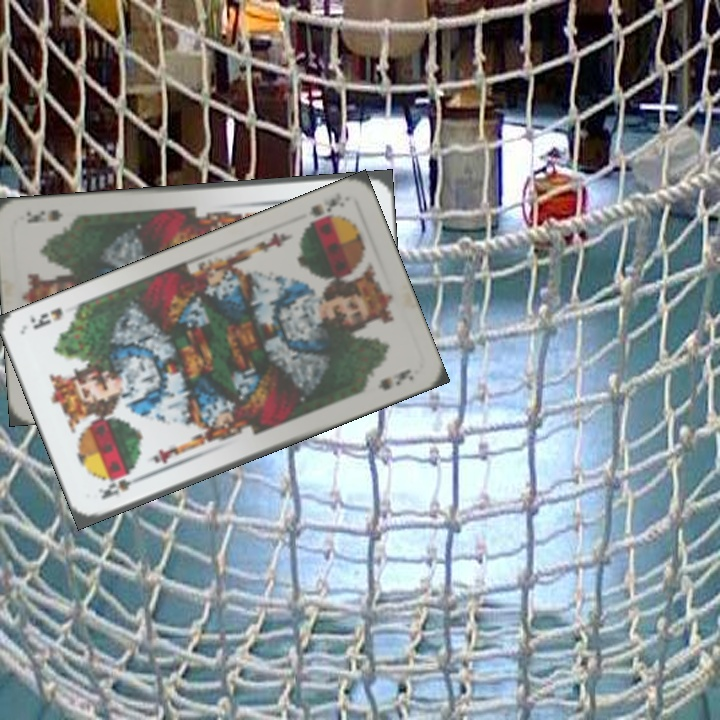SK: (298, 188, 348, 231), (94, 470, 148, 502)
